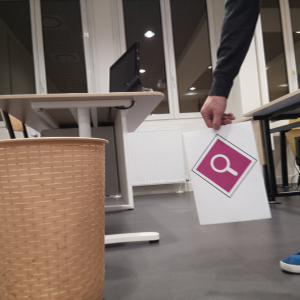search: (190, 134, 257, 198)
